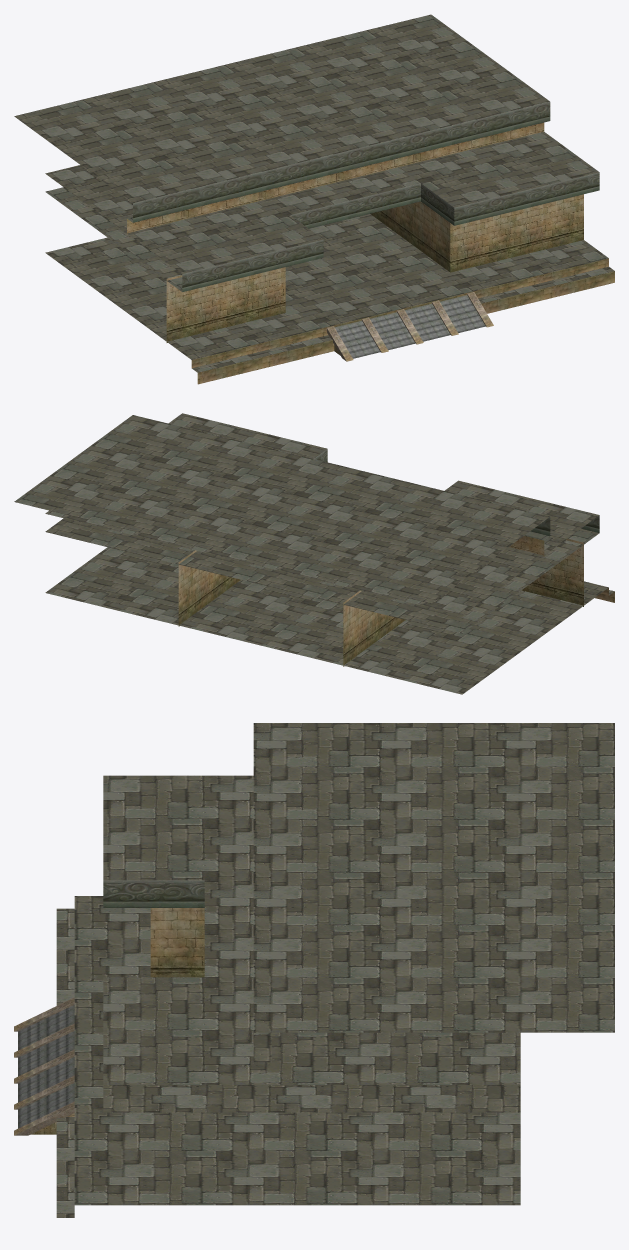
The model's file is environment_Building_shamoshenmiao_001_a.FBX.
3 renders of one model, top to bottom at view 1: azimuth 30°, elevation 25°; view 2: azimuth 150°, elevation 25°; view 3: azimuth 270°, elevation 25°, orthographic. The views are drawn at different scales.
Visible parts, largest first — view 1: environment_Building_shamoshenmiao_001_b, environment_Building_shamoshenmiao_001_d, environment_Building_shamoshenmiao_001_a, environment_Building_shamoshenmiao_001_c; view 2: environment_Building_shamoshenmiao_001_b, environment_Building_shamoshenmiao_001_d, environment_Building_shamoshenmiao_001_a; view 3: environment_Building_shamoshenmiao_001_b, environment_Building_shamoshenmiao_001_a, environment_Building_shamoshenmiao_001_d, environment_Building_shamoshenmiao_001_c.
Part boxes in pixels (bbox=[...]): environment_Building_shamoshenmiao_001_b: bbox=[14, 14, 614, 372]; environment_Building_shamoshenmiao_001_d: bbox=[127, 122, 614, 384]; environment_Building_shamoshenmiao_001_a: bbox=[133, 101, 599, 358]; environment_Building_shamoshenmiao_001_c: bbox=[327, 292, 493, 361]; environment_Building_shamoshenmiao_001_b: bbox=[14, 413, 614, 694]; environment_Building_shamoshenmiao_001_d: bbox=[178, 536, 614, 666]; environment_Building_shamoshenmiao_001_a: bbox=[314, 449, 599, 535]; environment_Building_shamoshenmiao_001_b: bbox=[56, 723, 614, 1217]; environment_Building_shamoshenmiao_001_a: bbox=[18, 880, 204, 1128]; environment_Building_shamoshenmiao_001_d: bbox=[31, 908, 204, 1134]; environment_Building_shamoshenmiao_001_c: bbox=[14, 997, 74, 1135].
Bounding box in the file's own units: 2348 × 719 × 1927.
